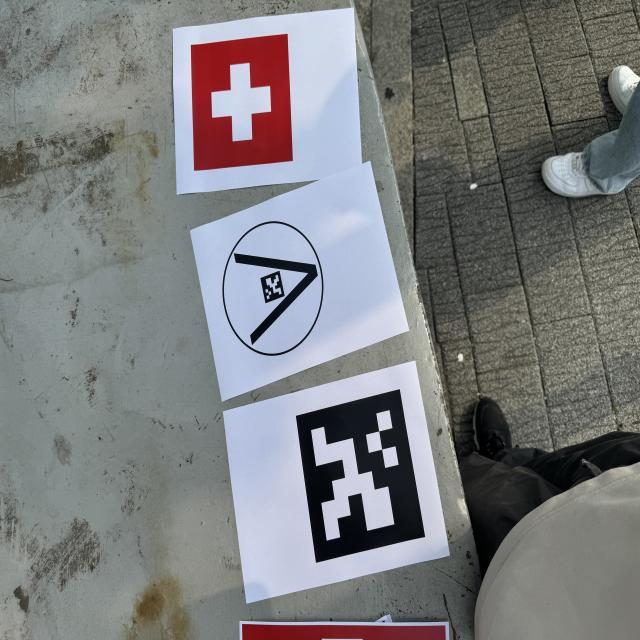ArUro mark: (297, 390, 425, 563)
rescue point: (192, 34, 292, 170)
vertiport: (220, 218, 327, 362)
